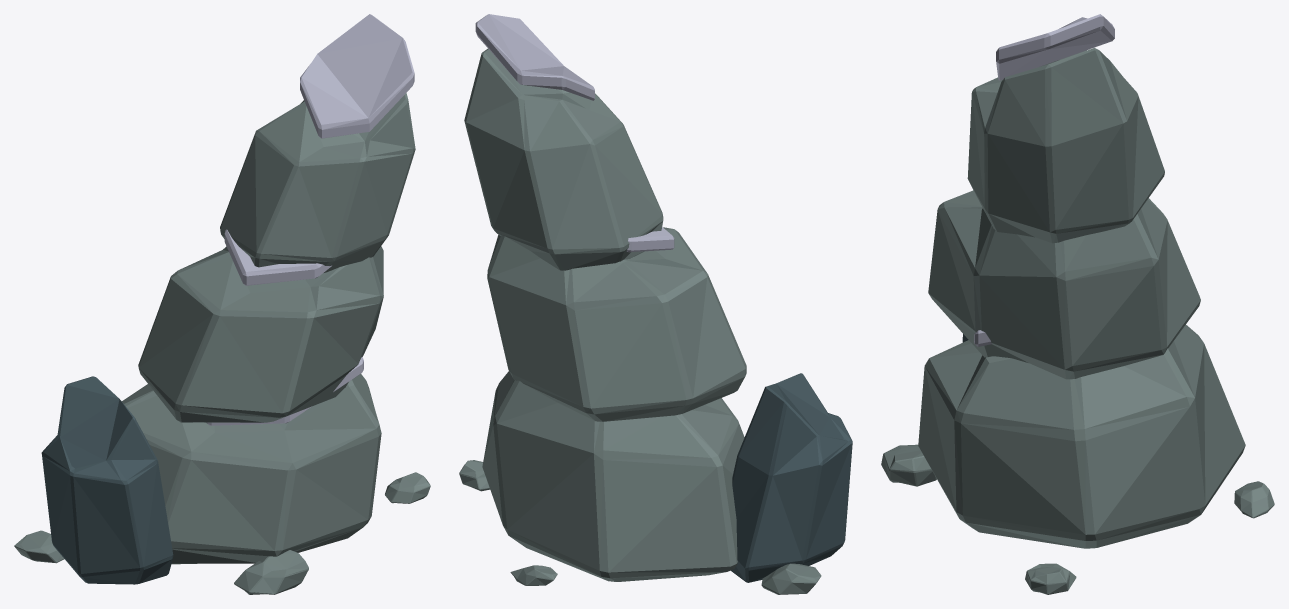
The model's file is rock_spire_snow.glb.
3 renders of one model, left to right at view 1: azimuth 30°, elevation 25°; view 2: azimuth 150°, elevation 25°; view 3: azimuth 270°, elevation 25°, orthographic. The views are drawn at different scales.
Parts seen in each view (by area): view 1: rock_spire_snow; view 2: rock_spire_snow; view 3: rock_spire_snow.
Boxes of the visible parts, x1,y1,x2,y2 form: rock_spire_snow: (14,14,430,594); rock_spire_snow: (459,14,852,594); rock_spire_snow: (881,14,1274,594).
Size of the model in its own units: 2.88 by 3.41 by 2.16.
